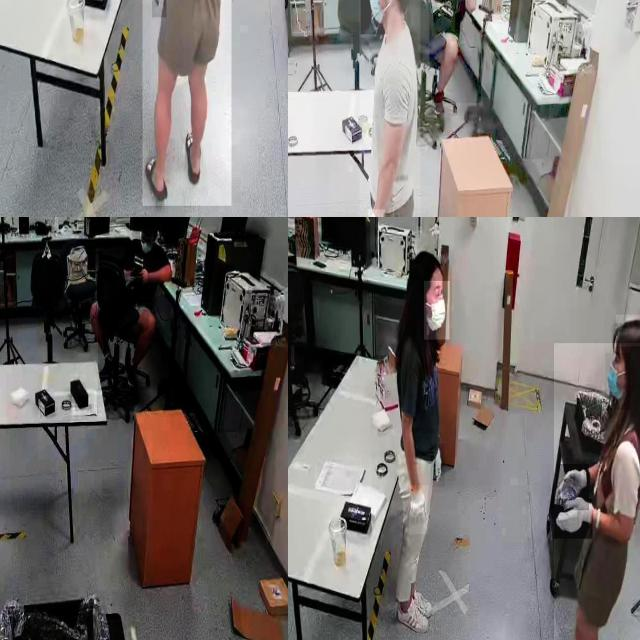face_mask: (424, 281, 450, 339), (606, 353, 630, 410), (360, 0, 387, 34), (140, 228, 154, 260)
hand_glove: (554, 498, 592, 538), (557, 464, 589, 510), (409, 485, 429, 535), (431, 444, 445, 488), (152, 0, 167, 18)
hand_noglove: (131, 265, 143, 287), (136, 267, 148, 285)
head_nohelmet: (406, 246, 444, 281), (615, 314, 640, 347), (141, 217, 157, 228)
person: (553, 343, 640, 640), (393, 245, 457, 640), (142, 0, 231, 206), (97, 217, 180, 390), (359, 0, 420, 217), (429, 0, 481, 103)
shoes: (396, 596, 430, 634), (405, 576, 431, 621)
